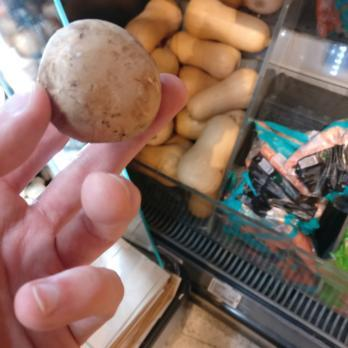Mushroom: (34, 16, 166, 144)
